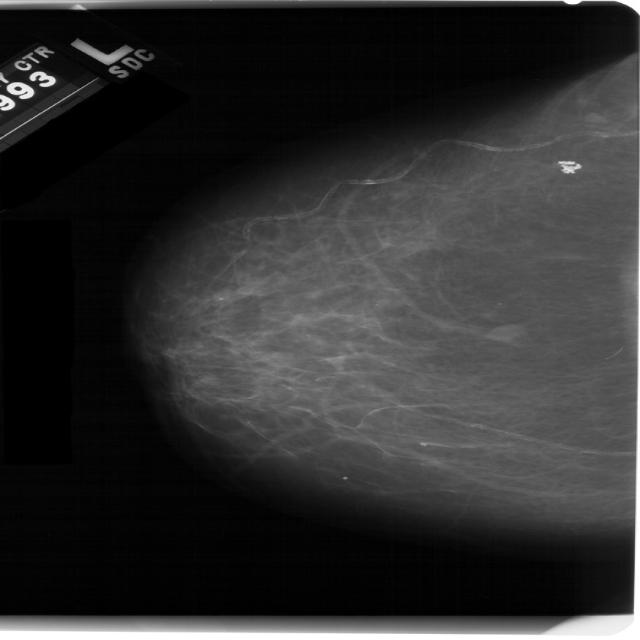tumour: (484, 322, 526, 341)
